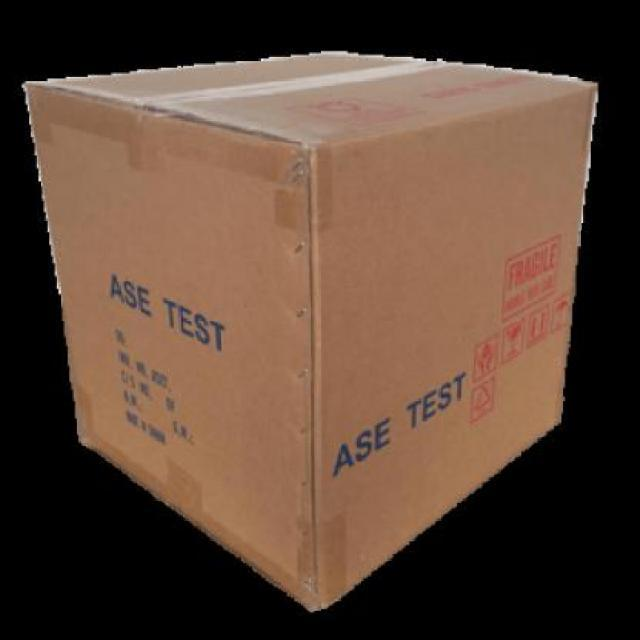box: (25, 48, 596, 608)
